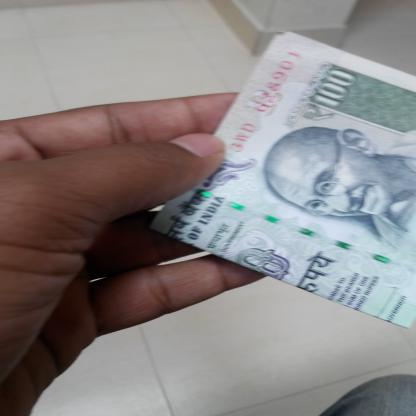Old100Front: (146, 28, 416, 330)
